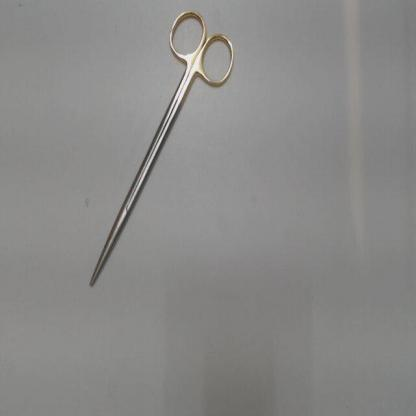7 Metzenbaum Scissors: (88, 6, 237, 290)
